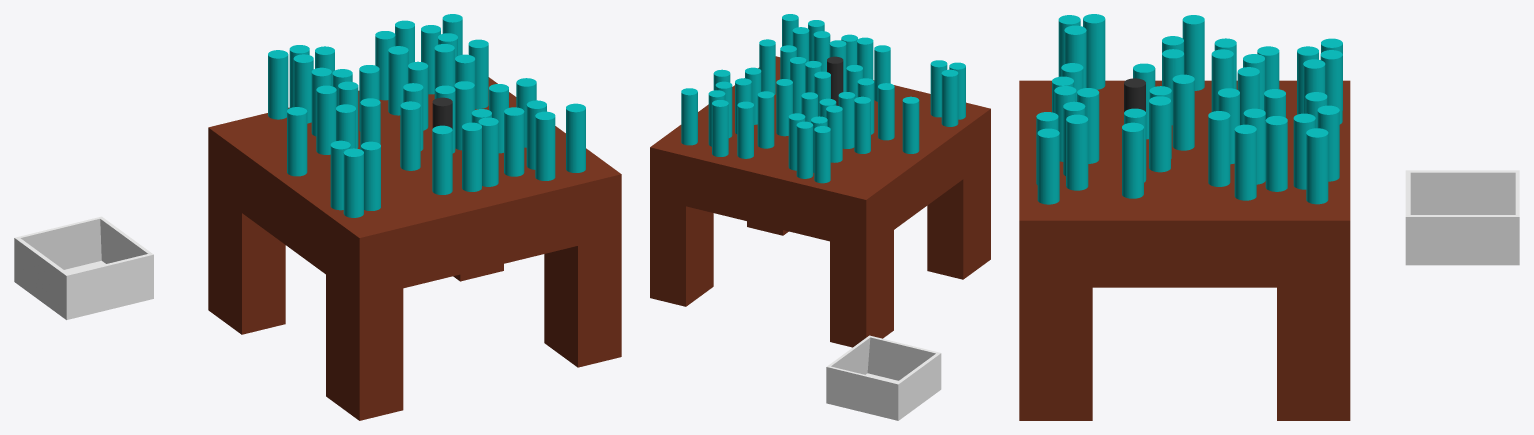
File: can_world_40_cans.dae
3 renders of one model, left to right at view 1: azimuth 30°, elevation 25°; view 2: azimuth 150°, elevation 25°; view 3: azimuth 270°, elevation 25°, orthographic. The views are drawn at different scales.
Parts seen in each view (by area): view 1: base (×37), SketchUp (×2); view 2: base (×41), SketchUp (×2); view 3: base (×37), SketchUp (×2).
Part boxes in pixels (x1,y1,x2,y2): base (×37): (208,20,621,420); SketchUp (×2): (14,216,153,319); base (×41): (650,14,990,347); SketchUp (×2): (826,335,941,420); base (×37): (1019,14,1350,420); SketchUp (×2): (1405,170,1519,265).
Size of the model in its own units: 1.3 by 1.36 by 0.811.
